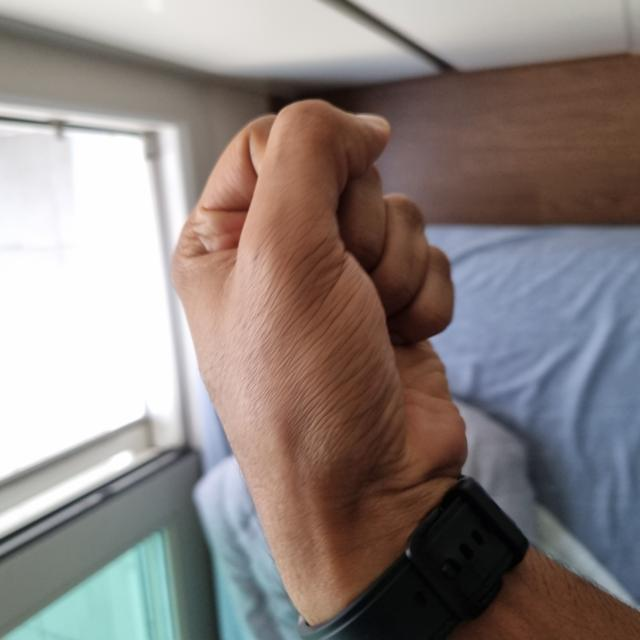Rock: (45, 176, 536, 455)
